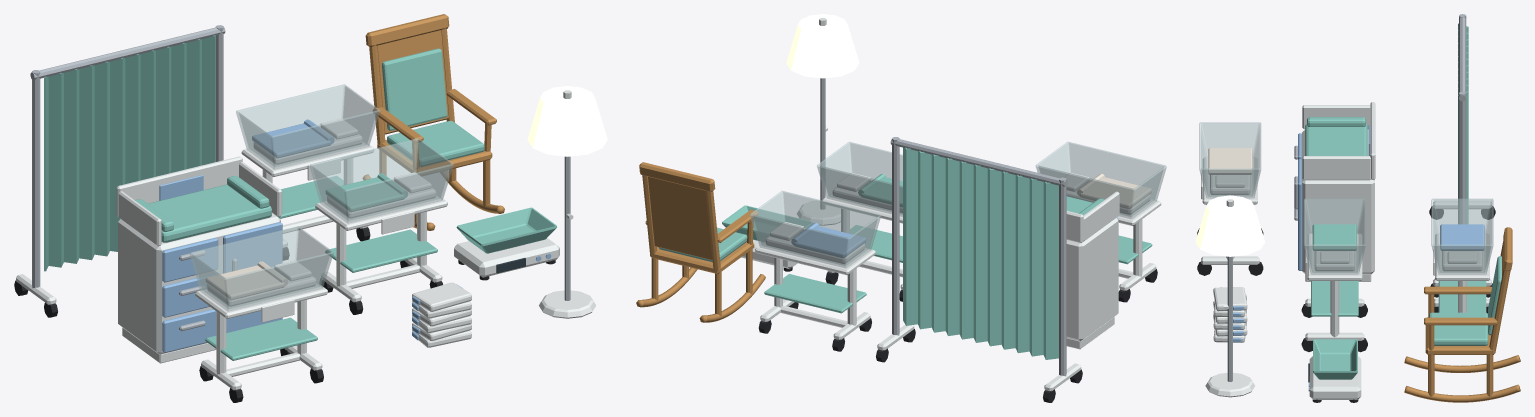
File: baby-ward-set.glb
The picture shows the model from 3 angles, left to right: view 1: azimuth 30°, elevation 25°; view 2: azimuth 150°, elevation 25°; view 3: azimuth 270°, elevation 25°; orthographic projection. The views are drawn at different scales.
Parts seen in each view (by area): view 1: Curtain, Bassinet_Teal_Tub, Bassinet_Blue_Tub, Bassinet_Cream_Tub, ChangingStation_Body, LampShade, RockingChair_BackCushion, ChangingStation_Pad, Door, BabyScale_Tray, RockingChair_SeatCushion, Bassinet_Cream_Shelf (+42 smaller); view 2: Curtain, Bassinet_Blue_Tub, Bassinet_Cream_Tub, ChangingStation_Body, Bassinet_Teal_Tub, RockingChair_BackPanel, LampShade, Bassinet_Blue_Shelf, PrivacyScreen_PostL, PrivacyScreen_PostR, PrivacyScreen_Rail, Bassinet_Blue_Blanket (+24 smaller); view 3: ChangingStation_Body, Bassinet_Blue_Tub, Bassinet_Teal_Tub, Bassinet_Cream_Tub, LampShade, ChangingStation_Pad, BabyScale_Tray, ChangingStation_SideGuardR, RockingChair_SeatCushion, Bassinet_Teal_Shelf, BabyScale_Base, Bassinet_Teal_Tray (+35 smaller).
Boxes of the visible parts, bbox=[...] form: Curtain: bbox=[44, 35, 215, 271]; Bassinet_Teal_Tub: bbox=[309, 138, 453, 223]; Bassinet_Blue_Tub: bbox=[236, 84, 379, 169]; Bassinet_Cream_Tub: bbox=[189, 226, 333, 311]; ChangingStation_Body: bbox=[118, 213, 280, 354]; LampShade: bbox=[527, 86, 607, 156]; RockingChair_BackCushion: bbox=[382, 48, 447, 130]; ChangingStation_Pad: bbox=[148, 184, 271, 242]; Door: bbox=[223, 222, 282, 332]; BabyScale_Tray: bbox=[456, 207, 556, 253]; RockingChair_SeatCushion: bbox=[387, 120, 484, 166]; Bassinet_Cream_Shelf: bbox=[205, 317, 317, 360]; Curtain: bbox=[903, 147, 1058, 359]; Bassinet_Blue_Tub: bbox=[750, 190, 880, 268]; Bassinet_Cream_Tub: bbox=[1035, 141, 1166, 218]; ChangingStation_Body: bbox=[1066, 218, 1118, 341]; Bassinet_Teal_Tub: bbox=[817, 142, 902, 216]; RockingChair_BackPanel: bbox=[648, 176, 712, 260]; LampShade: bbox=[786, 14, 859, 78]; Bassinet_Blue_Shelf: bbox=[764, 274, 866, 313]; PrivacyScreen_PostL: bbox=[1059, 177, 1066, 376]; PrivacyScreen_PostR: bbox=[892, 137, 899, 335]; PrivacyScreen_Rail: bbox=[890, 139, 1067, 186]; Bassinet_Blue_Blanket: bbox=[794, 226, 865, 257]; ChangingStation_Body: bbox=[1301, 129, 1374, 274]; Bassinet_Blue_Tub: bbox=[1431, 198, 1493, 274]; Bassinet_Teal_Tub: bbox=[1303, 198, 1365, 274]; Bassinet_Cream_Tub: bbox=[1199, 122, 1261, 198]; LampShade: bbox=[1195, 195, 1264, 256]; ChangingStation_Pad: bbox=[1305, 123, 1367, 155]; BabyScale_Tray: bbox=[1313, 339, 1357, 379]; ChangingStation_SideGuardR: bbox=[1302, 156, 1370, 180]; RockingChair_SeatCushion: bbox=[1429, 312, 1488, 345]; Bassinet_Teal_Shelf: bbox=[1311, 281, 1358, 316]; BabyScale_Base: bbox=[1309, 356, 1361, 399]; Bassinet_Teal_Tray: bbox=[1307, 234, 1362, 280].
Size of the model in its own units: 12.09 by 6.1 by 8.84.
